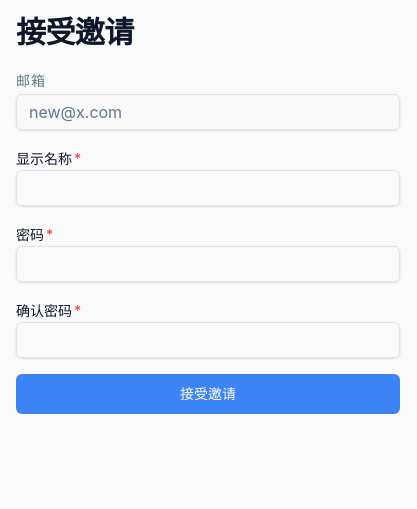
Test: InviteRedeemPage › 密码不匹配 → 错误
The width and height of the screenshot is (417, 509).
Expected: the field with test id "email-input" holds "new@x.com", [16, 94, 400, 130]
Step 1. Type "u" into the field with test id "name-input" → coordinates (208, 188), box [16, 170, 400, 206]
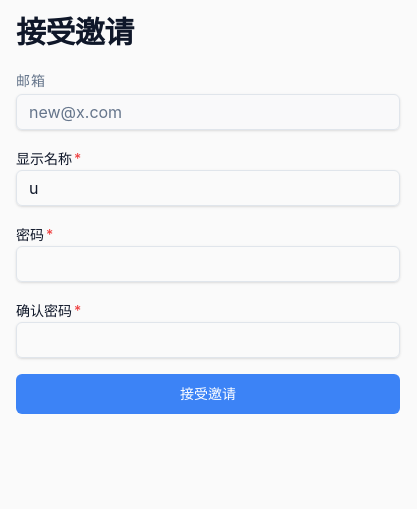
Step 2. Type "longpassword" into the password field with test id "password-input" → coordinates (208, 264), box [16, 246, 400, 282]
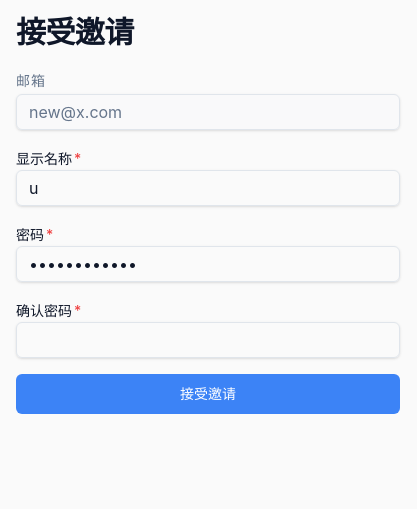
Step 3. Type "otherpassword" into the password field with test id "confirm-input" → coordinates (208, 340), box [16, 322, 400, 358]
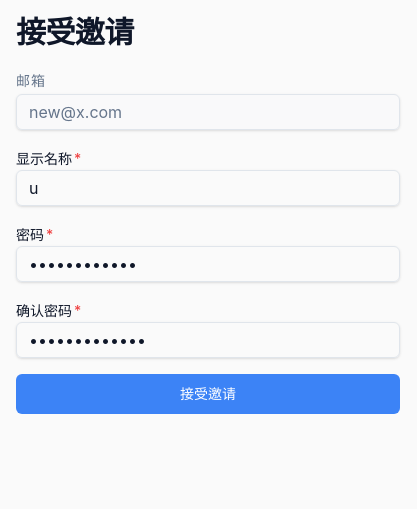
Step 4. Click the button with test id "submit" → coordinates (208, 394), box [16, 374, 400, 414]
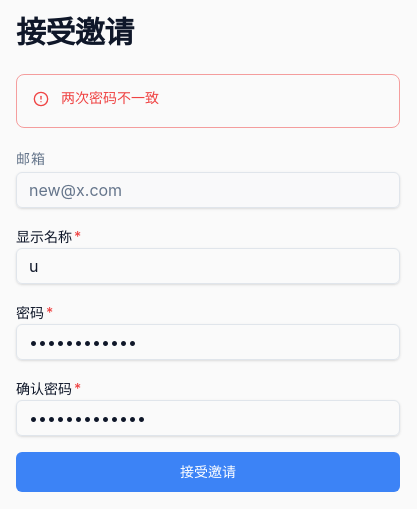
Expected: the text "两次密码不一致" is shown, [61, 89, 159, 106]
